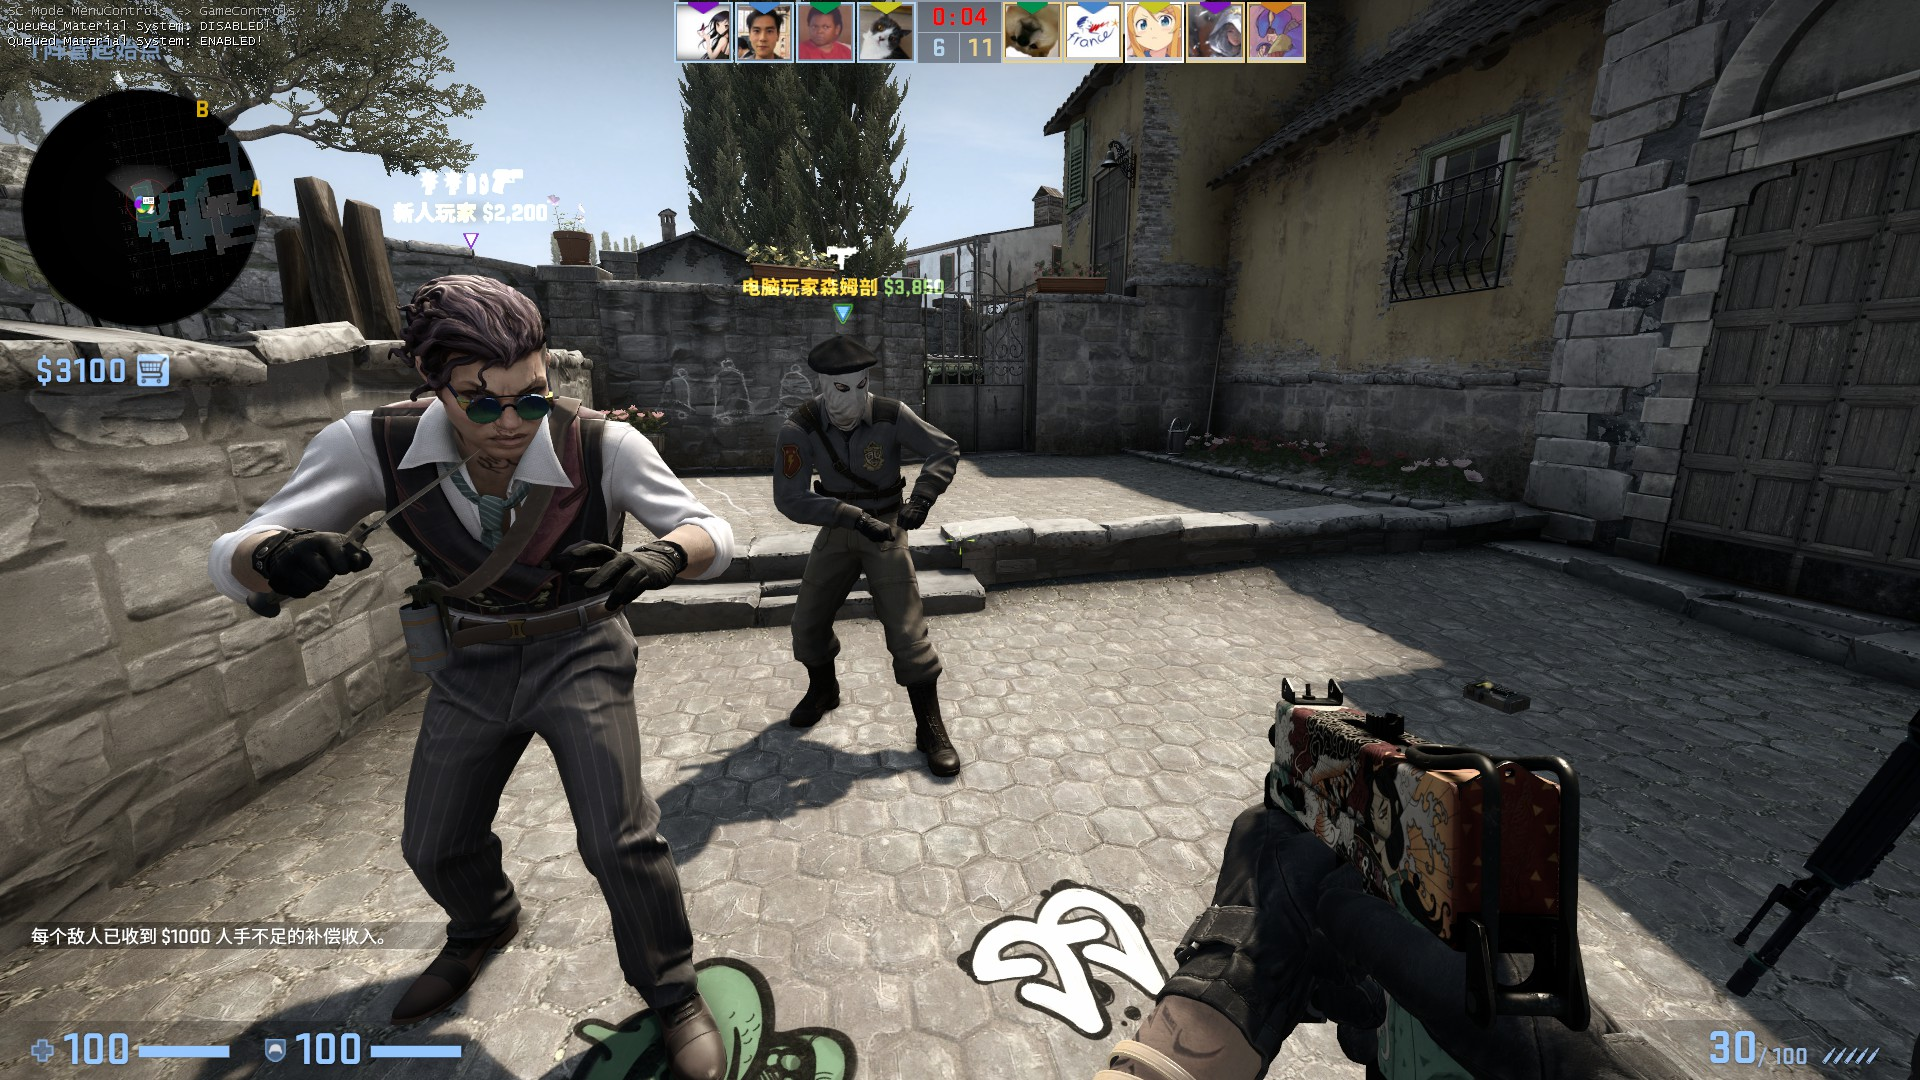head: (396, 274, 559, 459), (807, 330, 879, 434)
